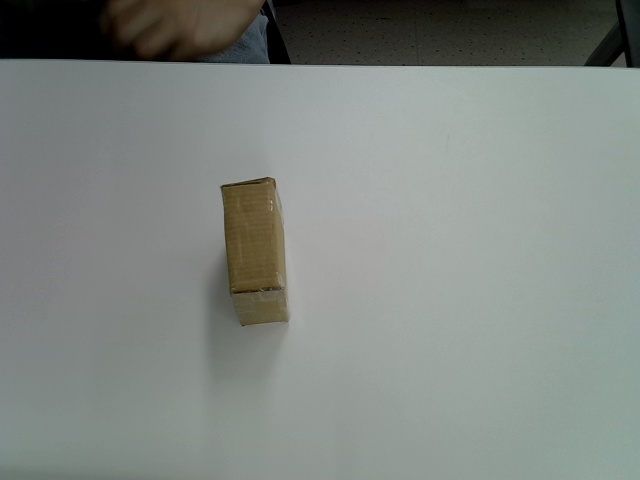normal: (220, 177, 289, 327)
